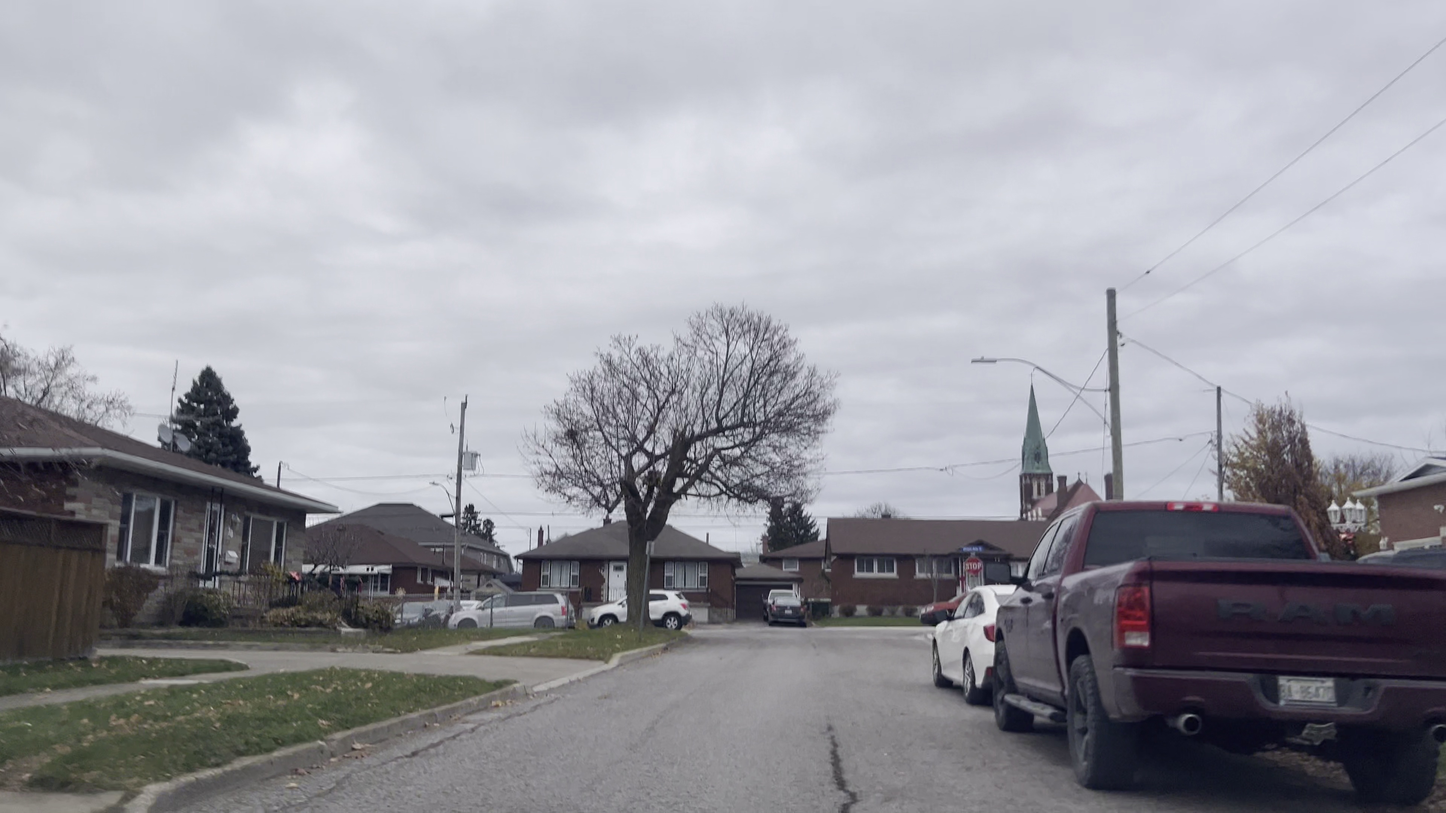cracks: (820, 722, 869, 813), (414, 714, 498, 761)
